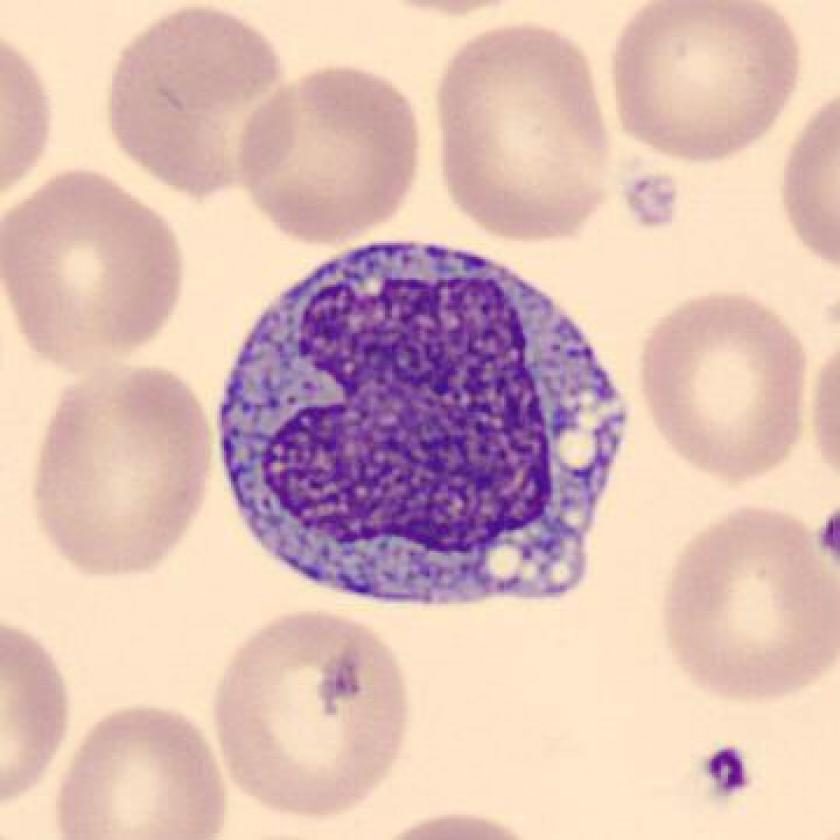monocyte: (192, 216, 652, 635)
